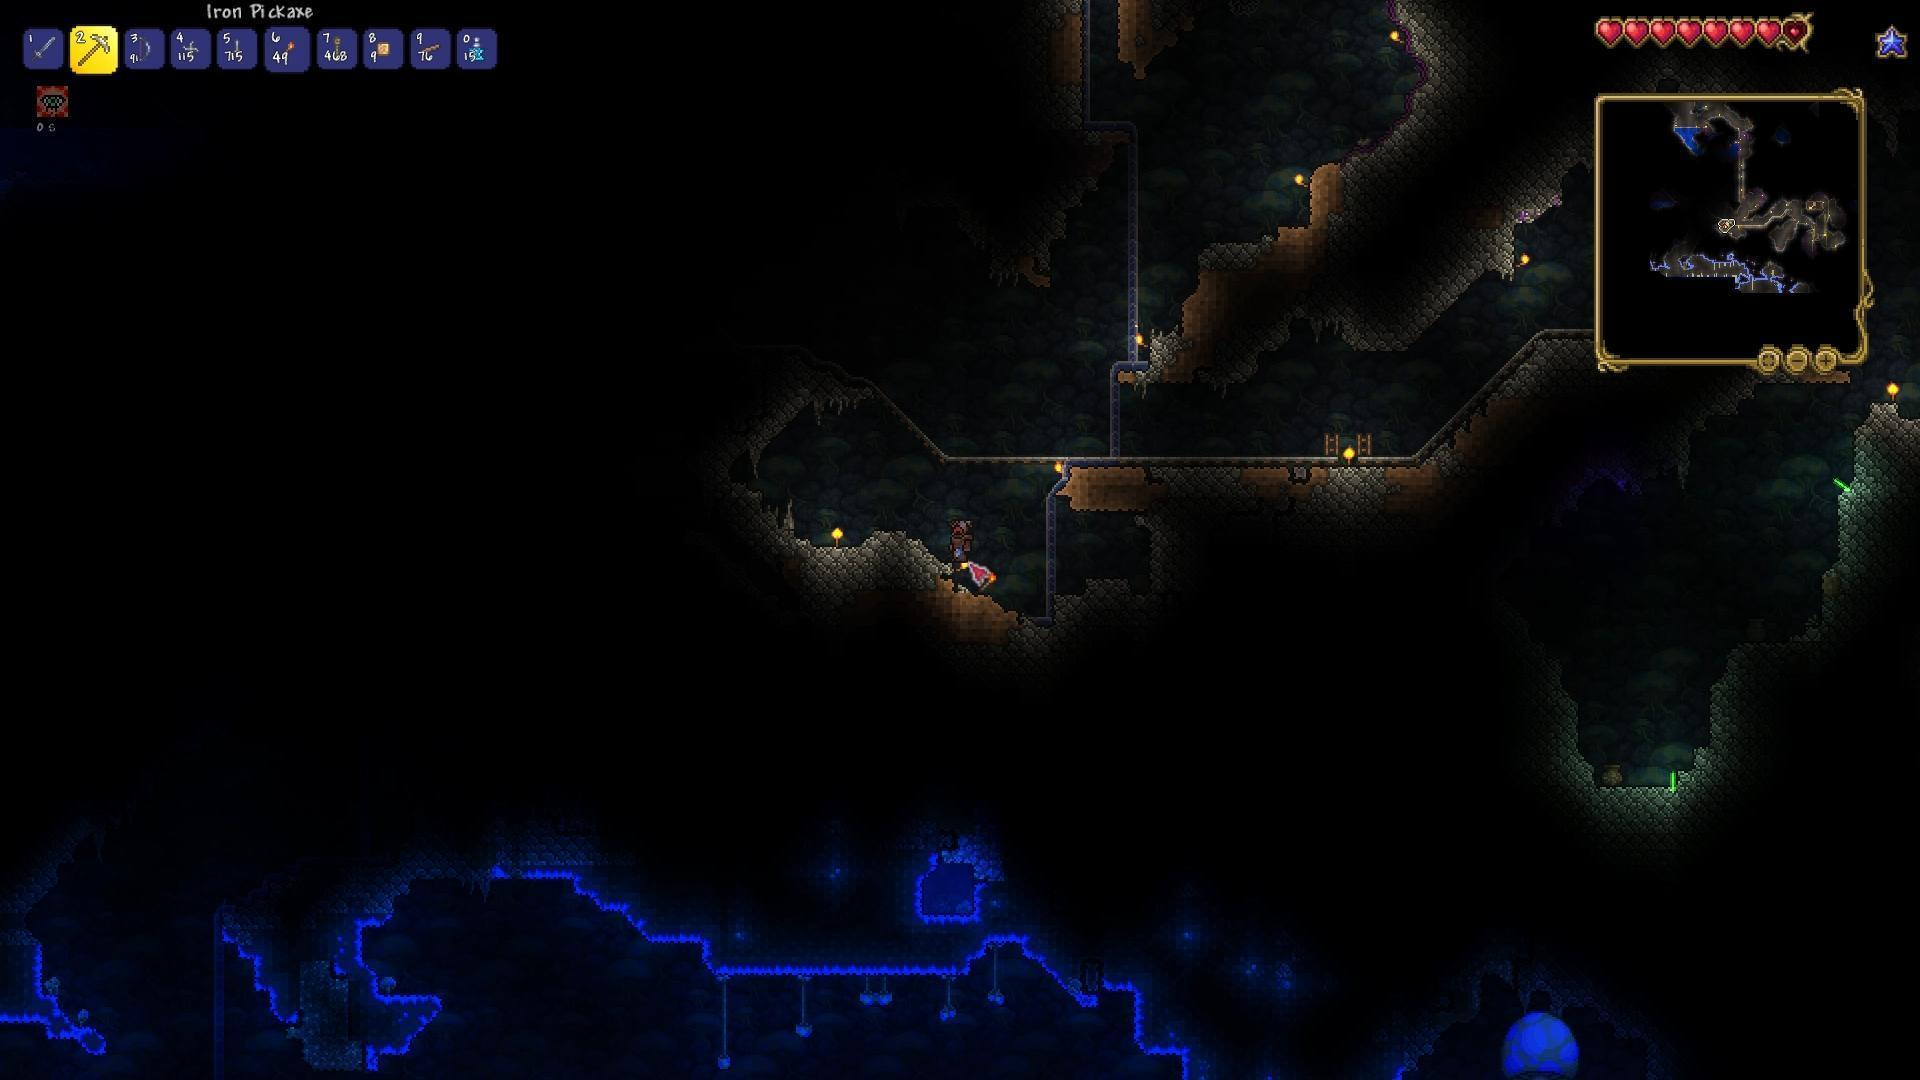bow: (135, 34, 153, 66)
glowstick: (1662, 764, 1684, 795)
knife: (232, 36, 245, 61)
pickaxe: (78, 28, 111, 70)
platform: (419, 38, 440, 55)
pot: (1596, 757, 1627, 789)
recallP: (468, 37, 488, 61)
rope: (331, 34, 343, 67)
shuriken: (179, 40, 200, 58)
sword: (30, 36, 58, 63)
